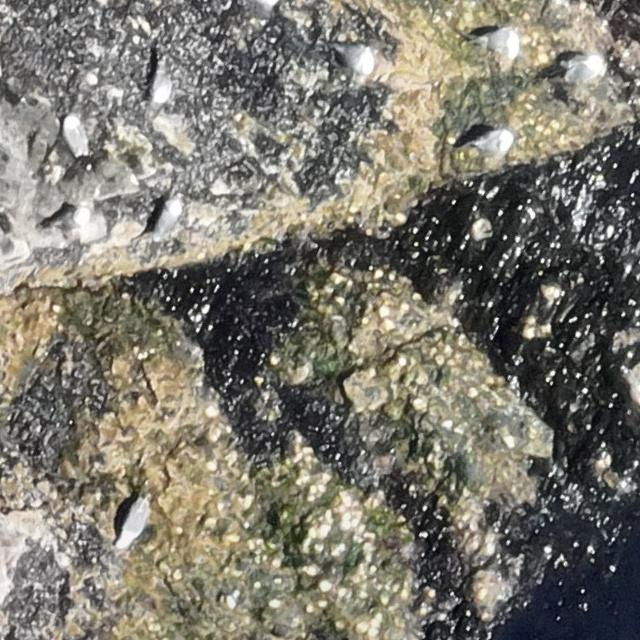umineko: (118, 499, 150, 551), (561, 54, 604, 88), (337, 42, 377, 77), (475, 28, 520, 58), (467, 130, 513, 159), (64, 113, 86, 168), (156, 197, 184, 239), (48, 204, 93, 229), (152, 61, 174, 105), (256, 0, 276, 16)
